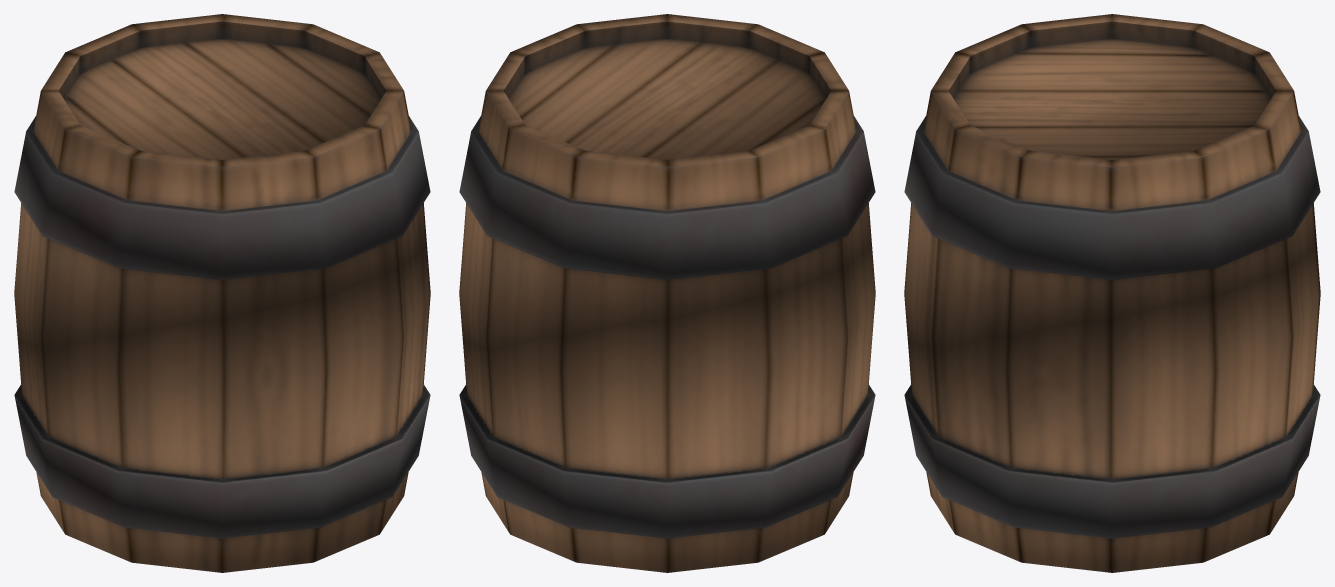
The model's file is Abandoned_Barrel_Overturned.fbx.
3 renders of one model, left to right at view 1: azimuth 30°, elevation 25°; view 2: azimuth 150°, elevation 25°; view 3: azimuth 270°, elevation 25°, orthographic.
Visible parts, largest first — view 1: Abandoned_Barrel_Overturned; view 2: Abandoned_Barrel_Overturned; view 3: Abandoned_Barrel_Overturned.
Boxes of the visible parts, x1=… form: Abandoned_Barrel_Overturned: x1=14, y1=14, x2=430, y2=572; Abandoned_Barrel_Overturned: x1=459, y1=14, x2=875, y2=572; Abandoned_Barrel_Overturned: x1=904, y1=14, x2=1320, y2=572.
Size of the model in its own units: 0.899 by 0.9657 by 0.899.
